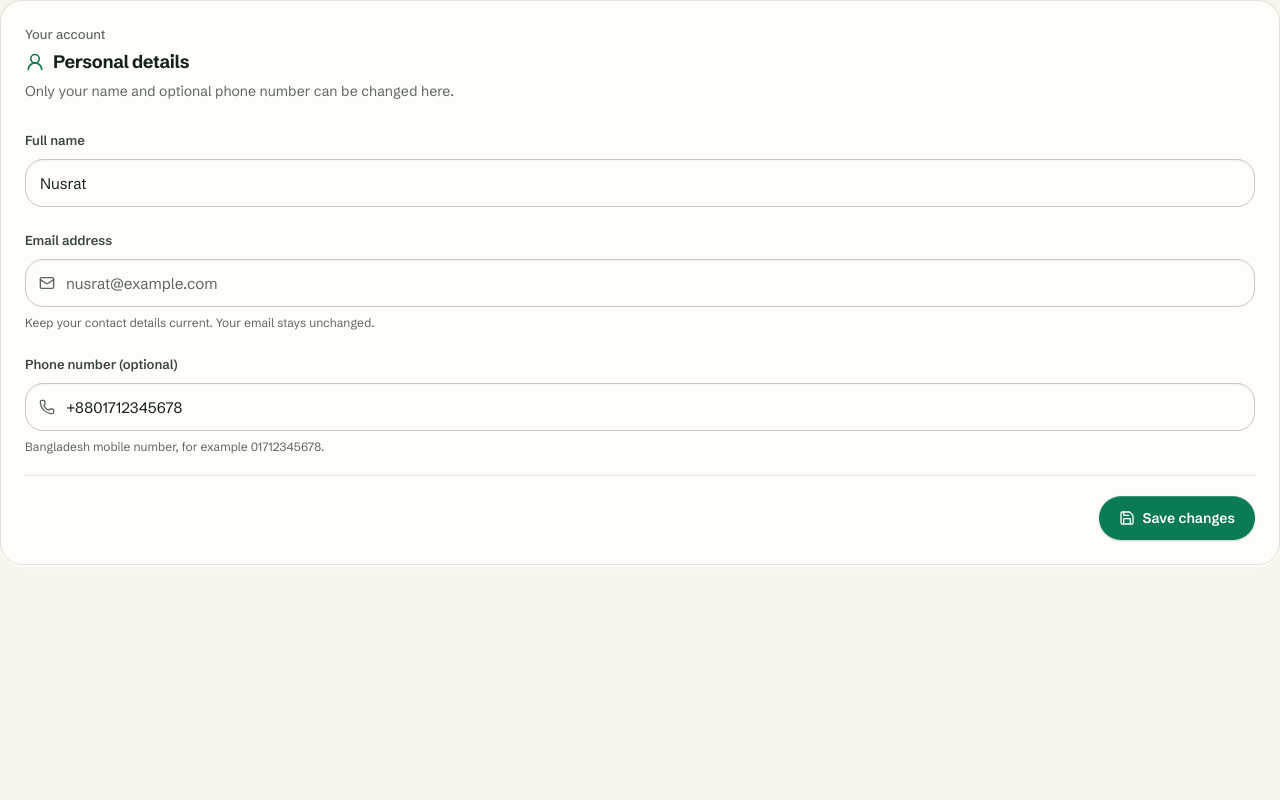
Scenario: profile screens › shows profile validation and API errors without losing the form
Click the button "Save changes": (1177, 518) [1098, 496, 1255, 540]
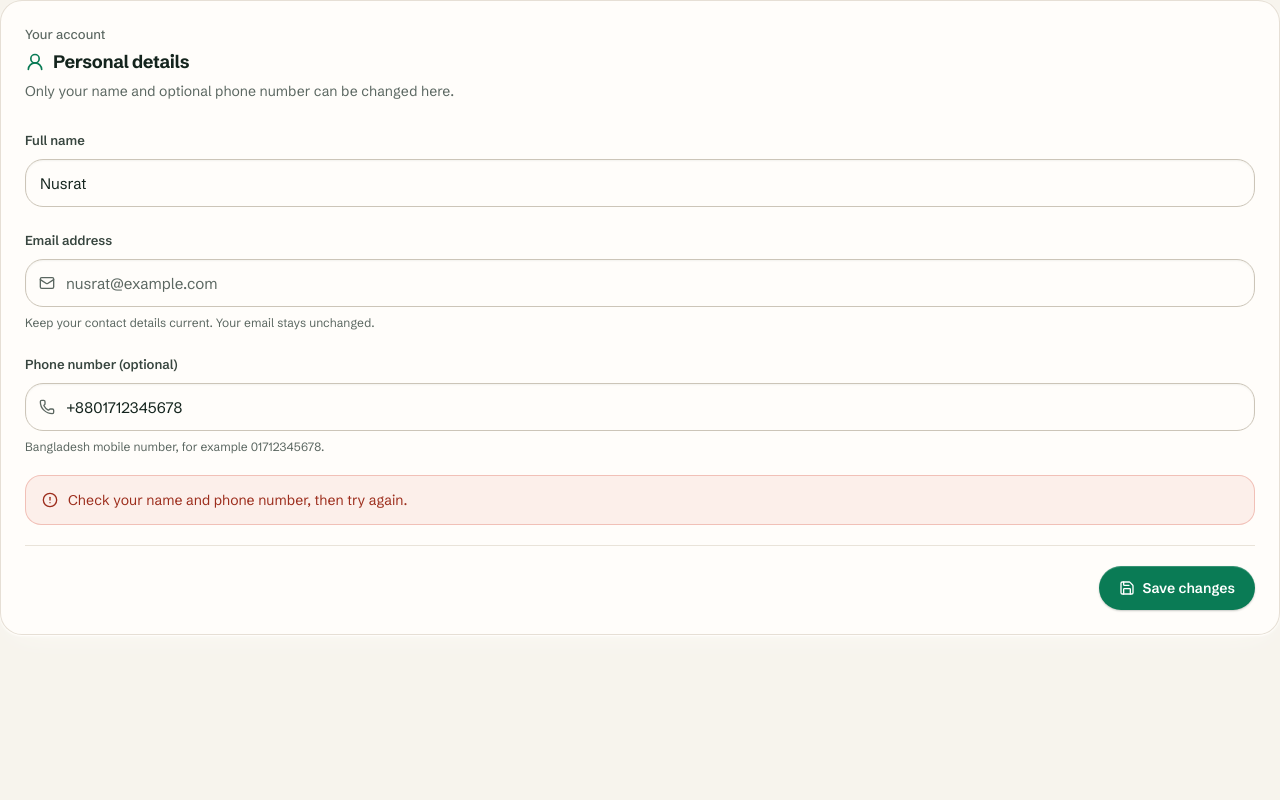
Expected: the field labelled "Full name" holds "Nusrat", [25, 159, 1255, 207]
Expected: the message reads "Check your name and phone number, then try again.", [68, 491, 408, 509]
